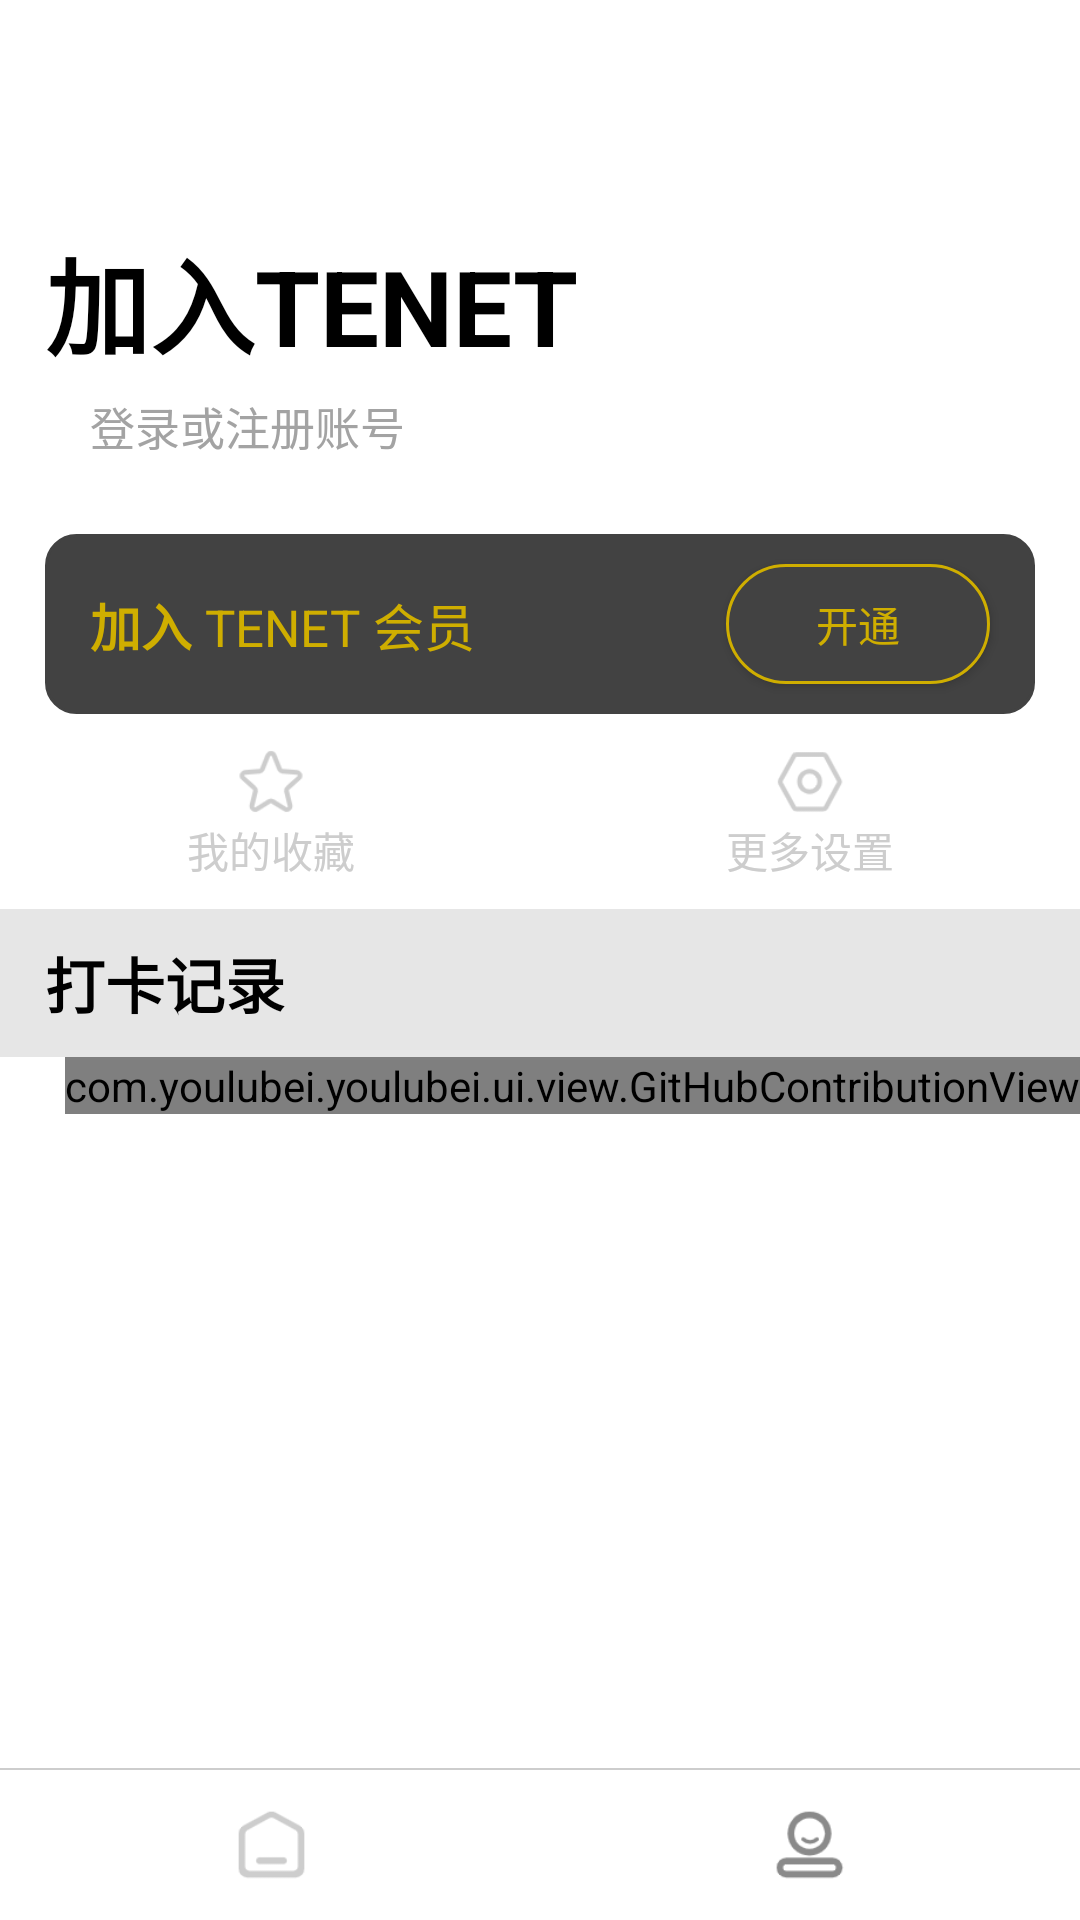

Screen size 1080 x 1920. Icon name, then its box in pixels as (left=x1, top=y1, right=x2, bottom=y2):
home src: (left=239, top=1812, right=304, bottom=1878)
mine src: (left=776, top=1811, right=843, bottom=1878)
